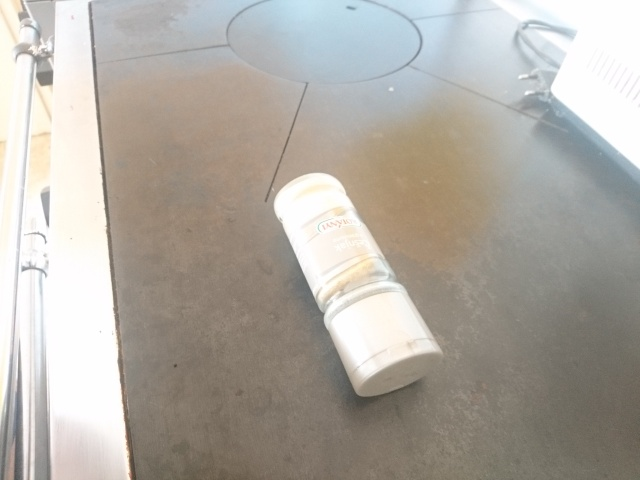Kotanyi Garlic Granules 70g: (270, 169, 447, 400)
